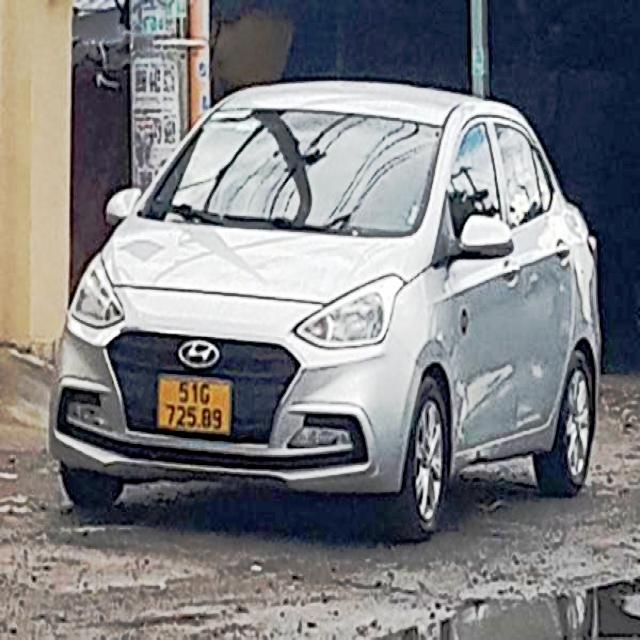license_plate: (162, 377, 233, 434)
